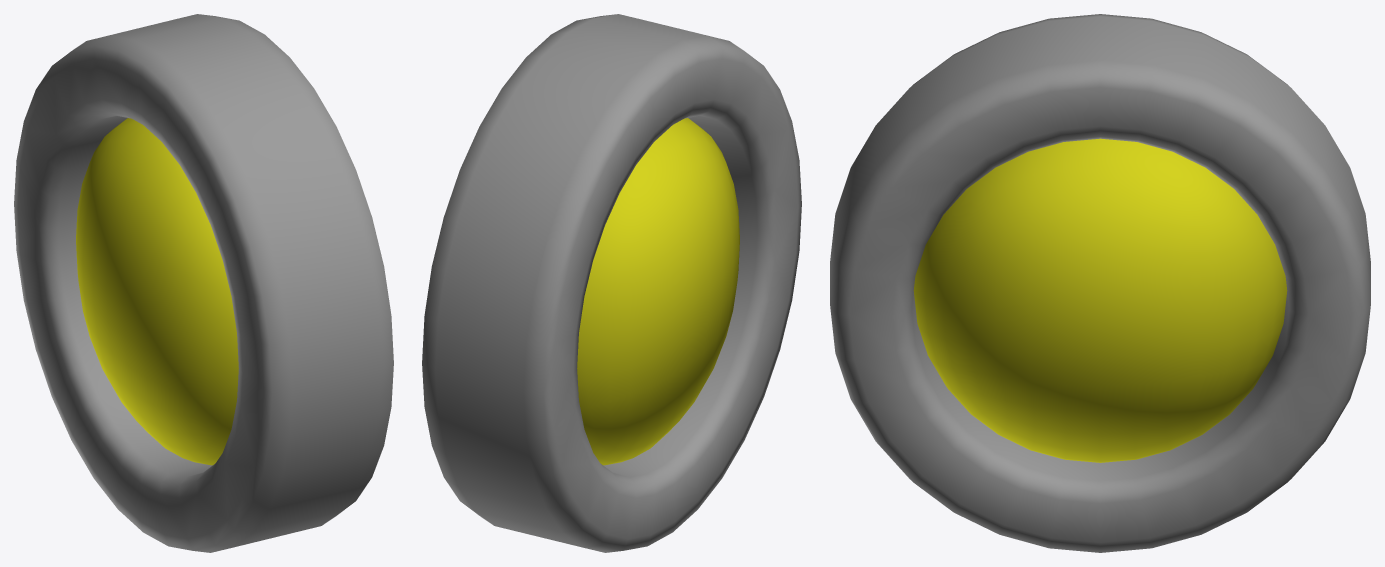
Rendered from Button.fbx.
3 views of the same model, side by side, from view 1: azimuth 30°, elevation 25°; view 2: azimuth 150°, elevation 25°; view 3: azimuth 270°, elevation 25° (orthographic). The views are drawn at different scales.
Parts seen in each view (by area): view 1: Button; view 2: Button; view 3: Button.
Boxes of the visible parts, bbox=[...] form: Button: bbox=[14, 14, 393, 552]; Button: bbox=[422, 14, 801, 552]; Button: bbox=[830, 14, 1370, 552].
Size of the model in its own units: 0.4315 by 1.23 by 1.23.
